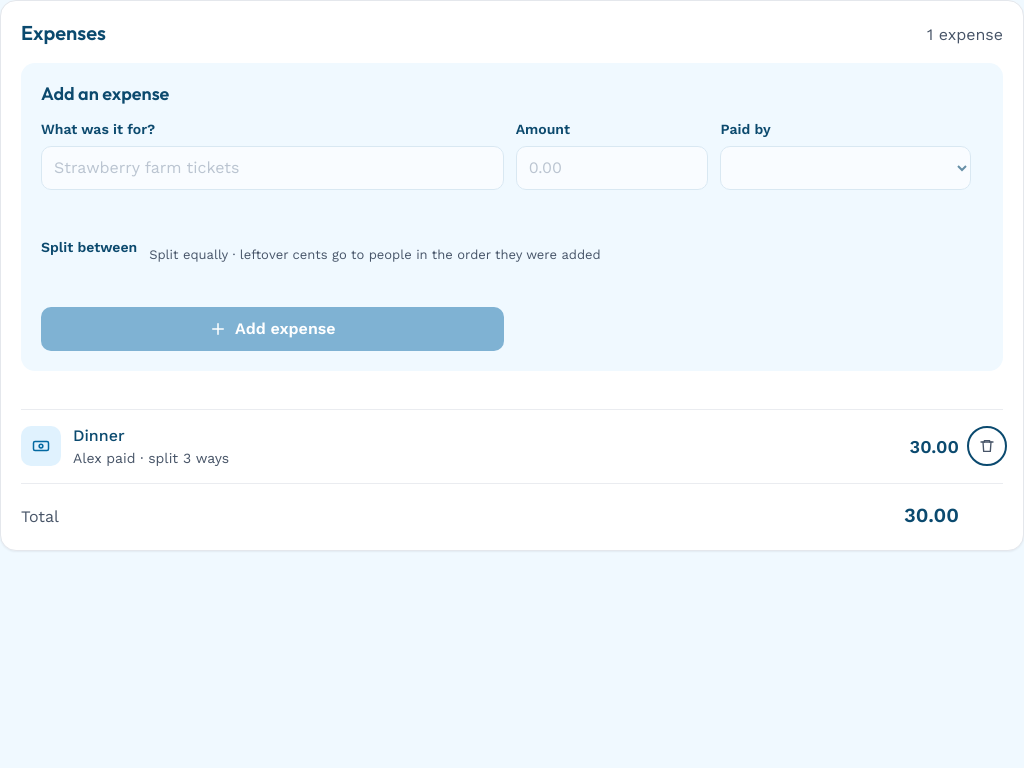
Test: ExpensesPanelComponent › shows "This expense no longer exists." when the delete returns 404 (F4.R9)
This screenshot has width=1024, height=768.
Click the button named "Delete Dinner" at (987, 446), box [971,430,1003,462]
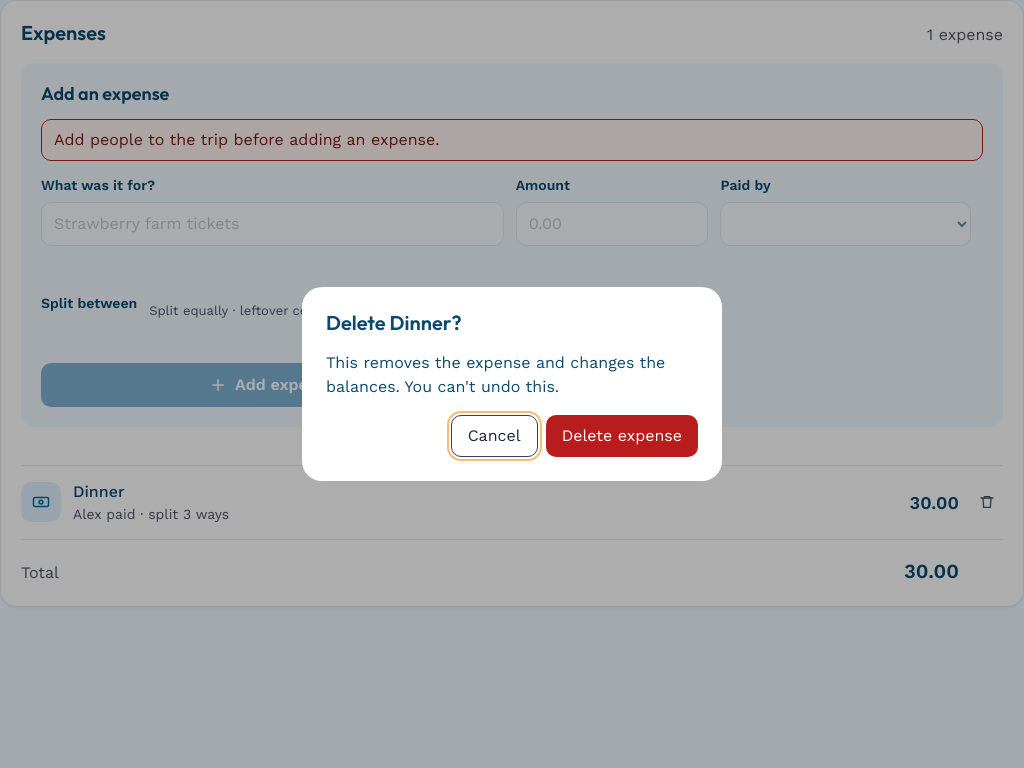
Click the button "Delete expense" at (622, 436), box [546,415,698,457]
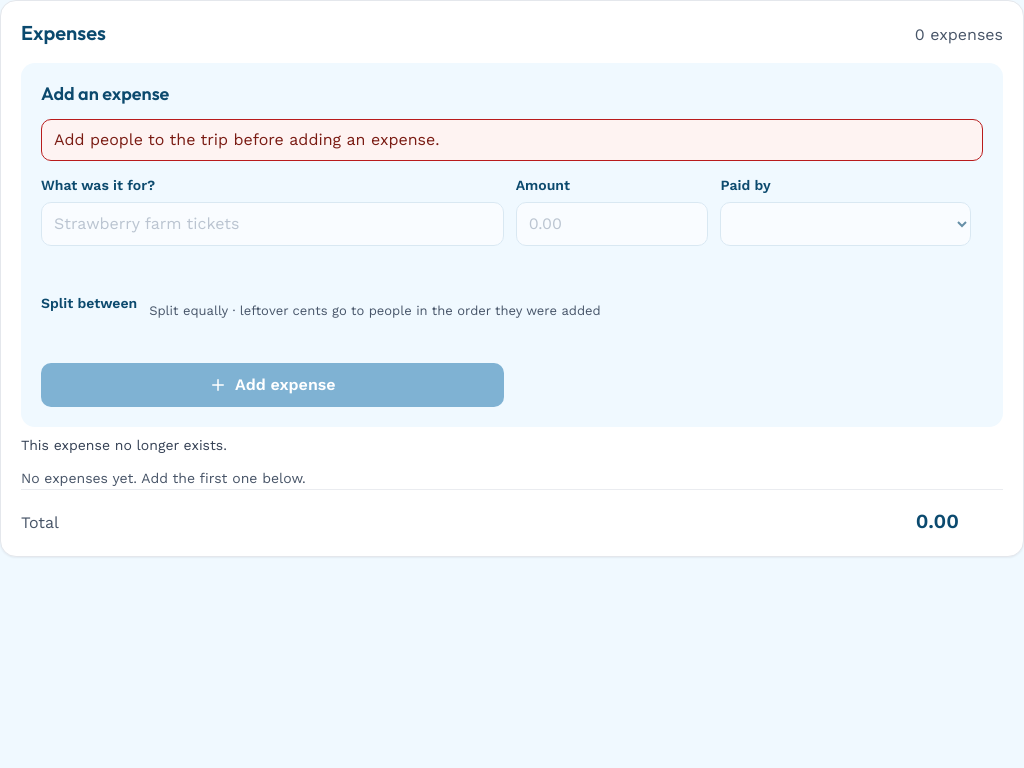
Now the dialog is gone
Now the heading "Delete Dinner" is gone
